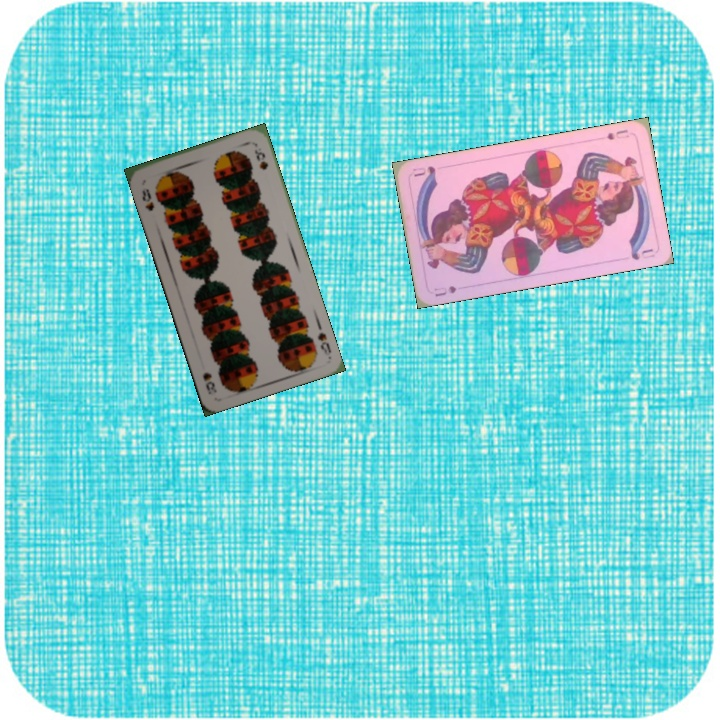S8: (313, 328, 334, 359), (138, 185, 157, 213)
SU: (430, 281, 459, 299), (602, 125, 631, 142)
